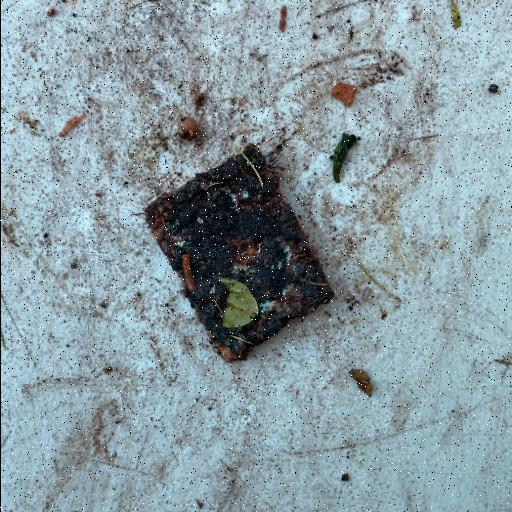Waste: (143, 142, 335, 362)
